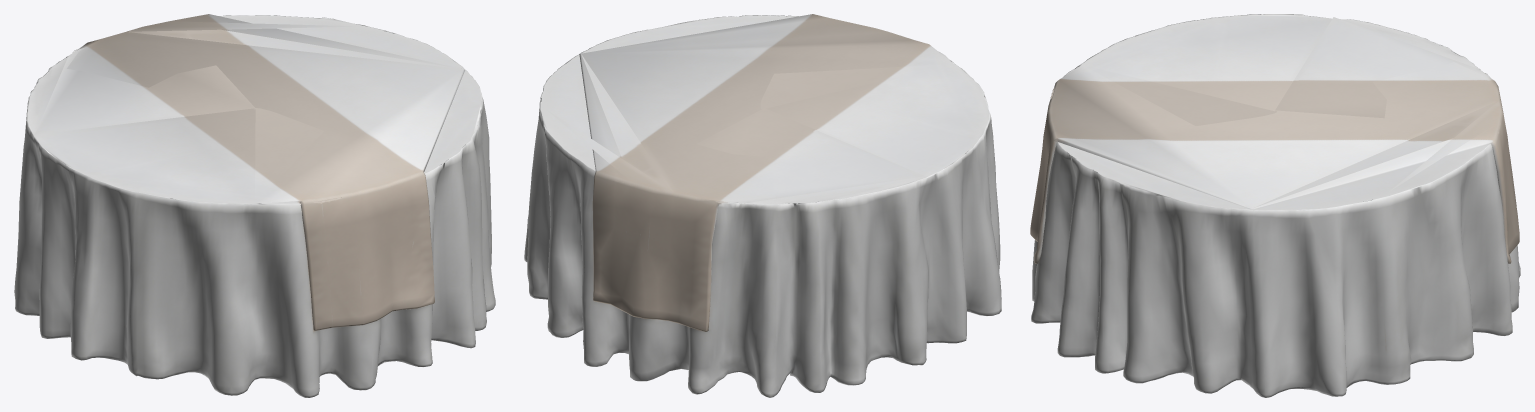
File: 5ftroundtable_withrunner_30inchestall.glb
3 renders of one model, left to right at view 1: azimuth 30°, elevation 25°; view 2: azimuth 150°, elevation 25°; view 3: azimuth 270°, elevation 25°, orthographic. The views are drawn at different scales.
Visible parts, largest first — view 1: Mesh_0; view 2: Mesh_0; view 3: Mesh_0.
Part boxes in pixels (<box>): Mesh_0: <box>14,14,495,397</box>; Mesh_0: <box>524,14,1001,397</box>; Mesh_0: <box>1030,14,1520,397</box>.
Bounding box in the file's own units: 1.73 × 0.762 × 1.73.
Materials: 1 (1 with a texture image).
